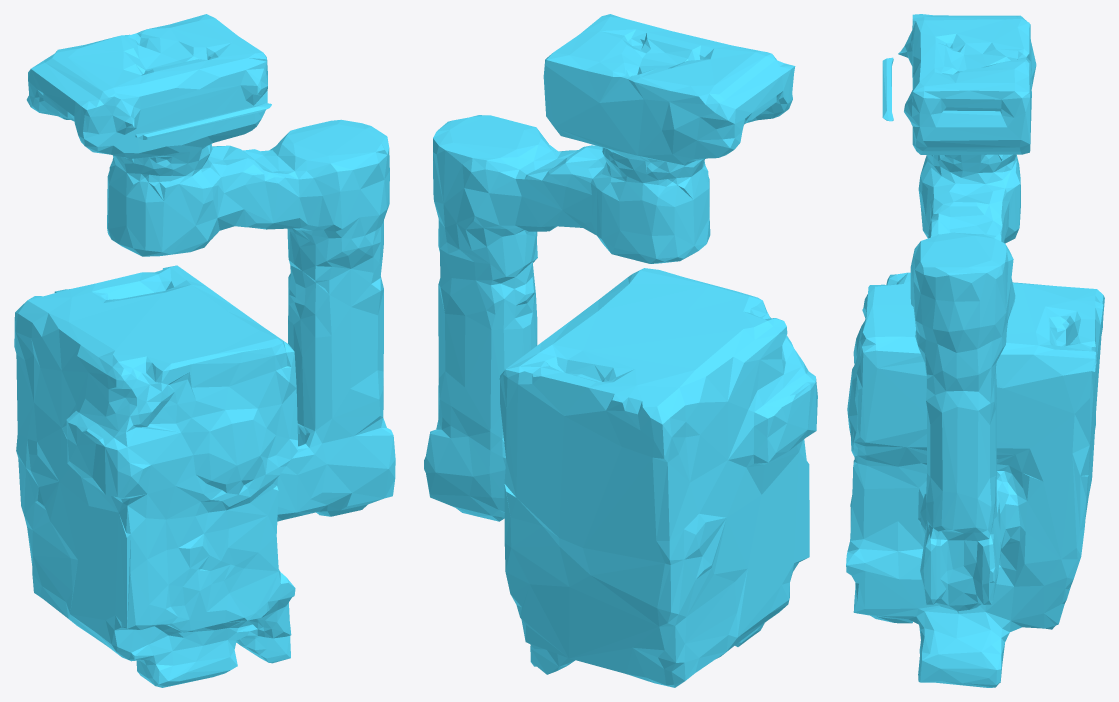
The model's file is 550w-hologram.glb.
The picture shows the model from 3 angles, left to right: view 1: azimuth 30°, elevation 25°; view 2: azimuth 150°, elevation 25°; view 3: azimuth 270°, elevation 25°; orthographic projection. The views are drawn at different scales.
Visible parts, largest first — view 1: SM_550W_HoloShell; view 2: SM_550W_HoloShell; view 3: SM_550W_HoloShell.
Part boxes in pixels (x1,y1,x2,y2): SM_550W_HoloShell: [14, 14, 395, 687]; SM_550W_HoloShell: [424, 14, 817, 687]; SM_550W_HoloShell: [846, 14, 1104, 687].
Size of the model in its own units: 1.09 by 1.99 by 0.7959.
